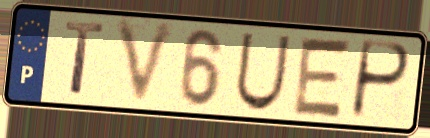6: (178, 27, 227, 109)
E: (289, 34, 356, 121)
P: (347, 38, 413, 123)
T: (63, 18, 108, 100)
U: (232, 30, 294, 114)
V: (113, 17, 180, 111)
